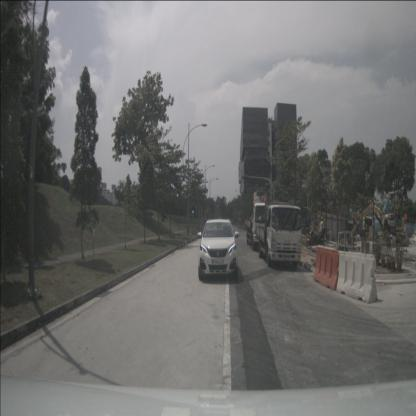barrier: (336, 251, 378, 304), (313, 245, 340, 291)
